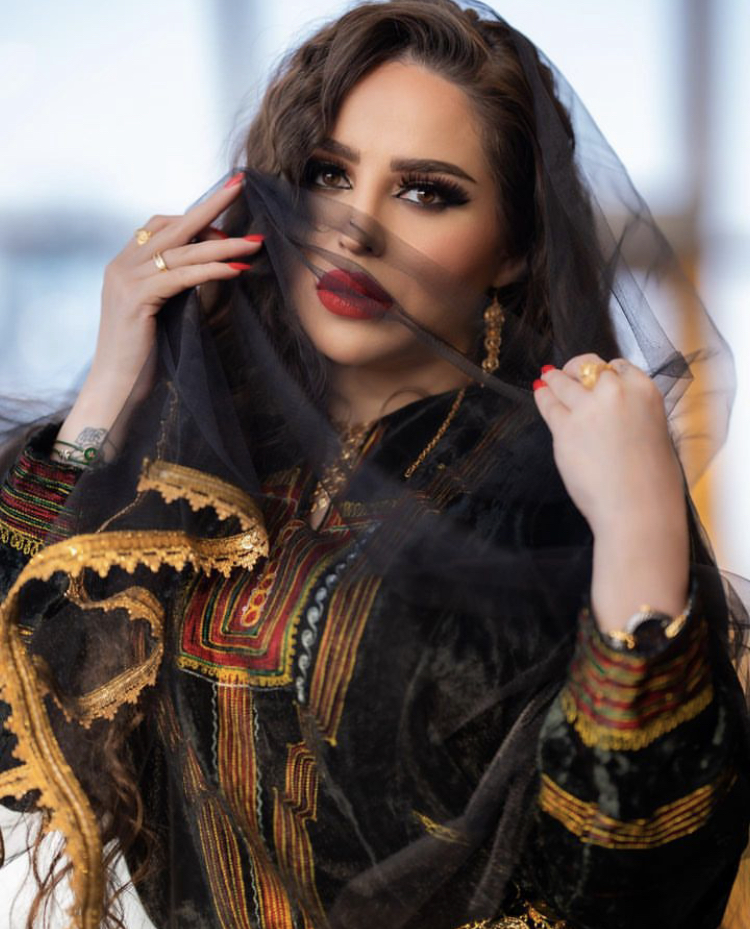Saudi_Founding_Day: (1, 2, 750, 929)
